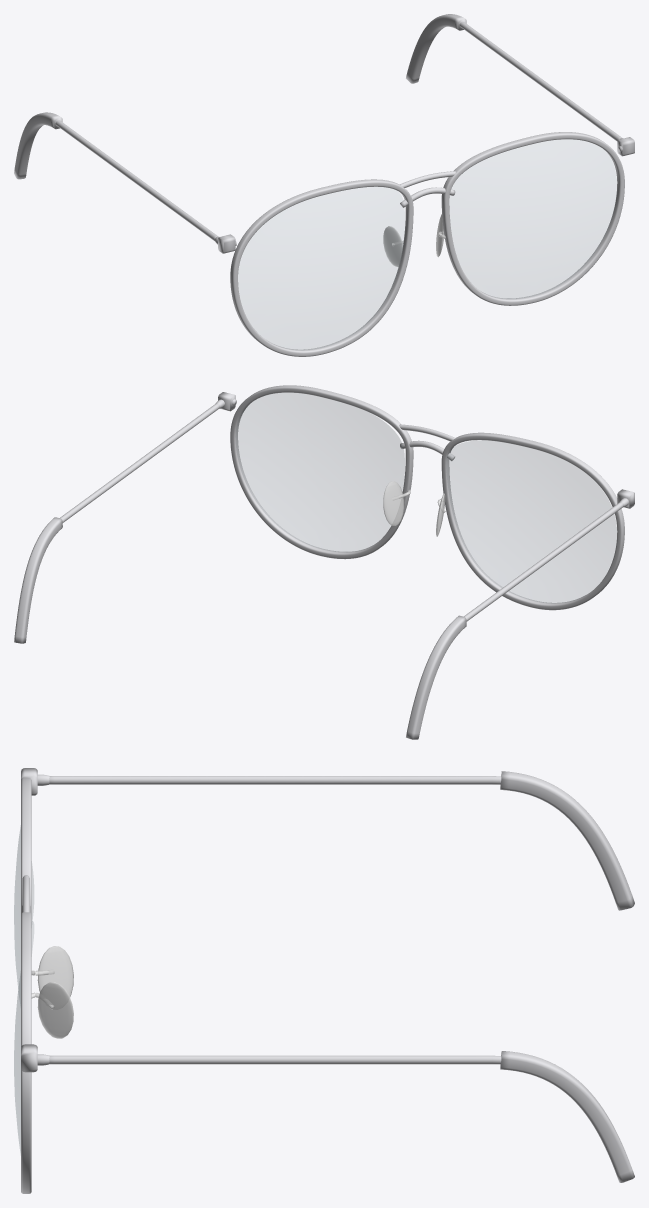
3 views of the same model, one above another, from view 1: azimuth 30°, elevation 25°; view 2: azimuth 150°, elevation 25°; view 3: azimuth 270°, elevation 25° (orthographic). The views are drawn at different scales.
Parts seen in each view (by area): view 1: lens_R, lens_L, frame_front, temple_R, temple_L, nose_pads; view 2: lens_R, lens_L, frame_front, temple_L, temple_R, nose_pads; view 3: temple_R, temple_L, frame_front, nose_pads, lens_L, lens_R.
Part boxes in pixels (<box>): lens_R: <box>449,139,616,298</box>; lens_L: <box>238,187,404,350</box>; frame_front: <box>215,132,634,356</box>; temple_R: <box>406,14,621,141</box>; temple_L: <box>14,112,217,240</box>; nose_pads: <box>383,214,445,266</box>; lens_R: <box>235,393,404,551</box>; lens_L: <box>446,440,616,603</box>; frame_front: <box>215,385,634,610</box>; temple_L: <box>406,502,623,739</box>; temple_R: <box>14,403,219,643</box>; nose_pads: <box>383,481,445,536</box>; temple_R: <box>49,1051,634,1182</box>; temple_L: <box>49,771,634,910</box>; frame_front: <box>21,768,49,1193</box>; nose_pads: <box>31,946,73,1038</box>; lens_L: <box>14,827,33,1005</box>; lens_R: <box>14,921,33,1153</box>.
Bounding box in the file's own units: 141 × 53.6 × 129.
